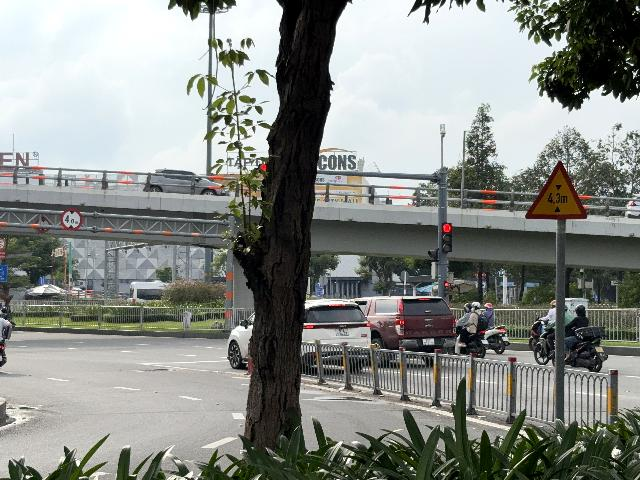chieu-cao-tinh-khong-thuc-te: (525, 161, 587, 219)
